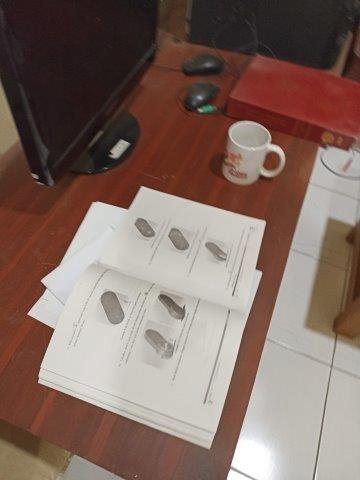kertas: (27, 186, 266, 449)
